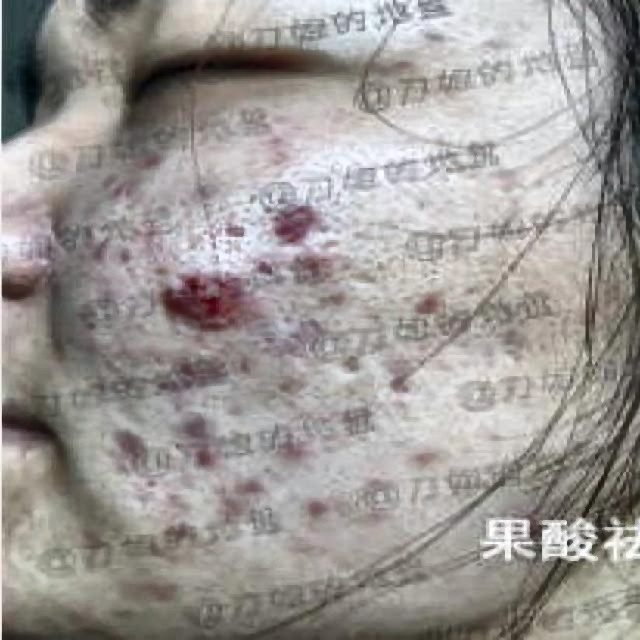pustule: (254, 192, 336, 244), (286, 249, 348, 296), (112, 420, 160, 478), (95, 177, 155, 222), (151, 352, 214, 393), (158, 407, 219, 442), (264, 423, 312, 466), (176, 443, 232, 471), (89, 247, 149, 272), (230, 474, 295, 496), (121, 149, 173, 176), (302, 493, 344, 525), (438, 319, 454, 339)
